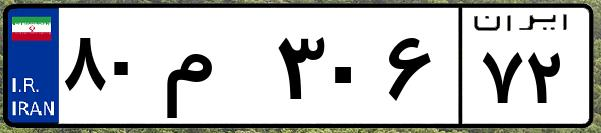0: (330, 28, 385, 110), (110, 28, 158, 98)
2: (525, 38, 570, 115)
3: (270, 28, 330, 110)
6: (385, 28, 445, 110)
7: (475, 38, 525, 113)
8: (57, 26, 110, 100)
م: (158, 20, 270, 120)
